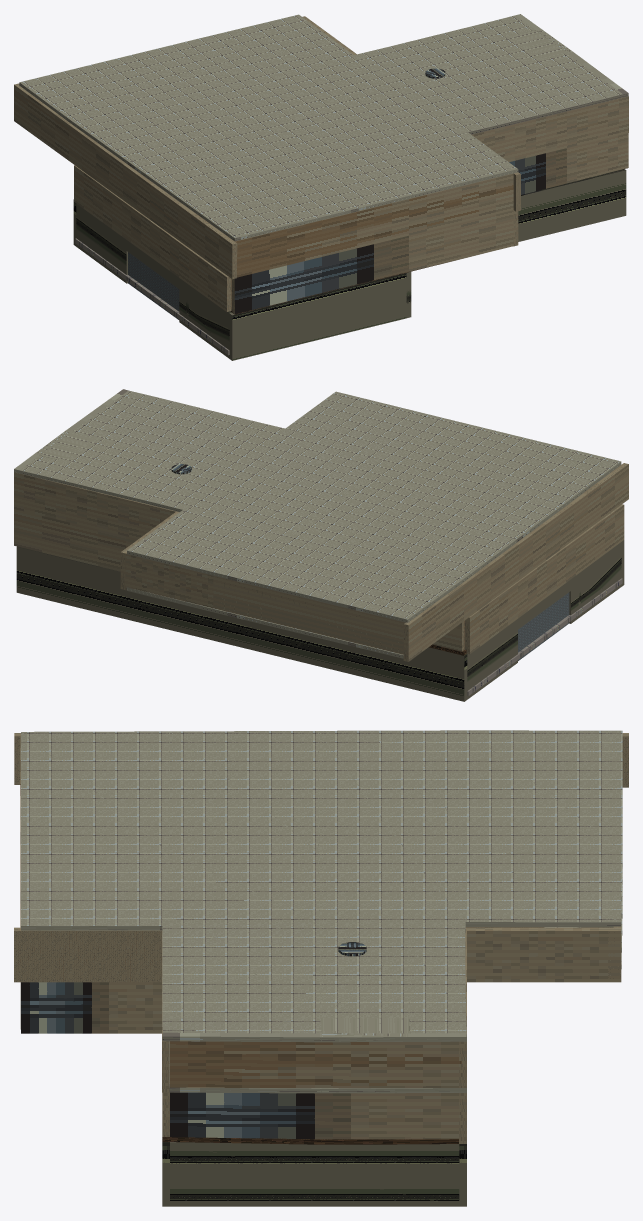
Rendered from NewGotyMap 1.fbx.
3 views of the same model, one above another, from view 1: azimuth 30°, elevation 25°; view 2: azimuth 150°, elevation 25°; view 3: azimuth 270°, elevation 25° (orthographic). The views are drawn at different scales.
Parts seen in each view (by area): view 1: Cube.060, Cube.023, Cube.047, Cube.046, Cube, Cube.028, Cube.041, Cube.001, Cube.003, Cube.022, Cube.004, BézierCurve; view 2: Cube.060, Cube.005, Cube.043, Cube.046, Cube.028, Cube.040, Cube.003, Cube.018, Cube.004, Cube.037, BézierCurve; view 3: Cube.060, Cube.006, Cube.019, Cube.039, Cube.042, Cube.048, Cube.021, Cube.037, Cube.015, Cube.046.
Part boxes in pixels (bbox=[...]): Cube.060: bbox=[19, 14, 628, 241]; Cube.023: bbox=[232, 210, 513, 313]; Cube.047: bbox=[233, 173, 513, 277]; Cube.046: bbox=[14, 83, 237, 279]; Cube: bbox=[229, 273, 406, 360]; Cube.028: bbox=[74, 165, 231, 311]; Cube.041: bbox=[471, 96, 628, 161]; Cube.001: bbox=[518, 169, 626, 241]; Cube.003: bbox=[76, 204, 231, 358]; Cube.022: bbox=[509, 133, 628, 194]; Cube.004: bbox=[128, 252, 179, 319]; BézierCurve: bbox=[75, 238, 229, 355]; Cube.060: bbox=[14, 389, 621, 622]; Cube.005: bbox=[16, 546, 467, 701]; Cube.043: bbox=[125, 552, 405, 654]; Cube.046: bbox=[403, 463, 628, 661]; Cube.028: bbox=[465, 504, 624, 654]; Cube.040: bbox=[14, 472, 179, 539]; Cube.003: bbox=[467, 542, 621, 699]; Cube.018: bbox=[14, 509, 464, 651]; Cube.004: bbox=[518, 592, 569, 660]; Cube.037: bbox=[127, 587, 403, 658]; BézierCurve: bbox=[467, 578, 622, 695]; Cube.060: bbox=[21, 730, 622, 1042]; Cube.006: bbox=[170, 1142, 459, 1206]; Cube.019: bbox=[170, 1092, 458, 1139]; Cube.039: bbox=[170, 1041, 458, 1087]; Cube.042: bbox=[467, 927, 621, 982]; Cube.048: bbox=[14, 927, 161, 982]; Cube.021: bbox=[21, 982, 161, 1033]; Cube.037: bbox=[169, 868, 622, 1093]; Cube.015: bbox=[162, 1137, 458, 1144]; Cube.046: bbox=[14, 733, 628, 787].
Size of the model in its own units: 5169 by 1356 by 4345.
